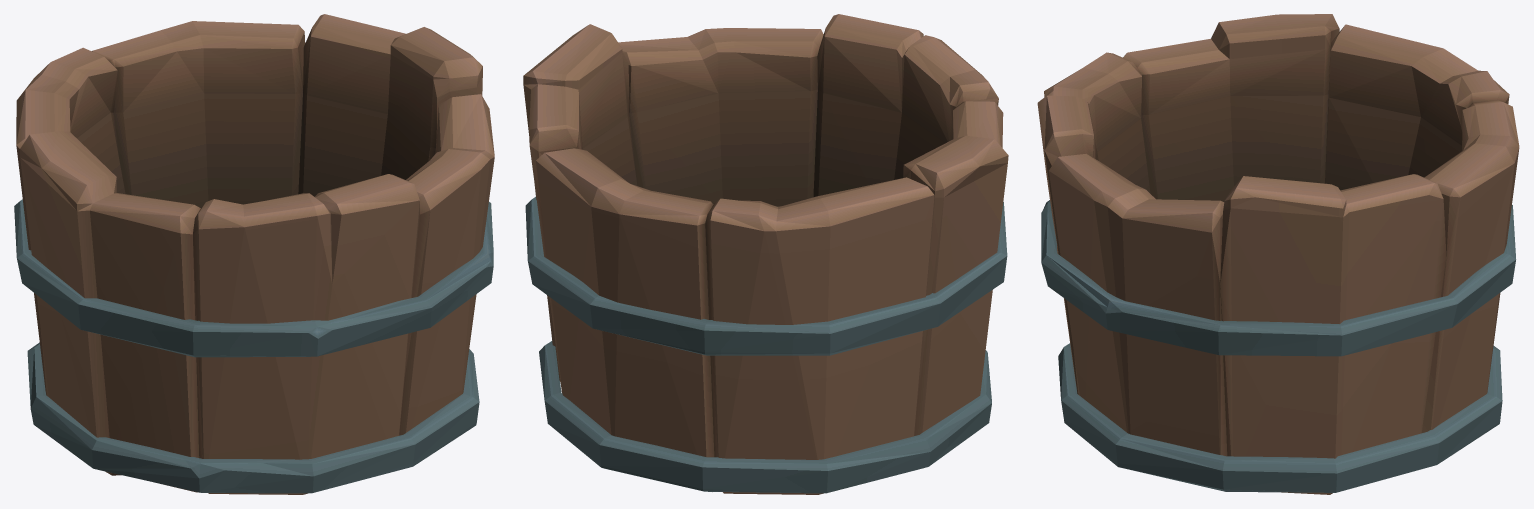
The model's file is CharSkyKid_Prop_WaterBucket.glb.
3 renders of one model, left to right at view 1: azimuth 30°, elevation 25°; view 2: azimuth 150°, elevation 25°; view 3: azimuth 270°, elevation 25°, orthographic.
Visible parts, largest first — view 1: CharSkyKid_Prop_WaterBucket; view 2: CharSkyKid_Prop_WaterBucket; view 3: CharSkyKid_Prop_WaterBucket.
Part boxes in pixels (left/top/right/bottom): CharSkyKid_Prop_WaterBucket: left=14, top=14, right=494, bottom=494; CharSkyKid_Prop_WaterBucket: left=523, top=14, right=1008, bottom=494; CharSkyKid_Prop_WaterBucket: left=1037, top=14, right=1519, bottom=494.
Size of the model in its own units: 0.2929 by 0.2164 by 0.2931.
Materials: 1 (1 with a texture image).
